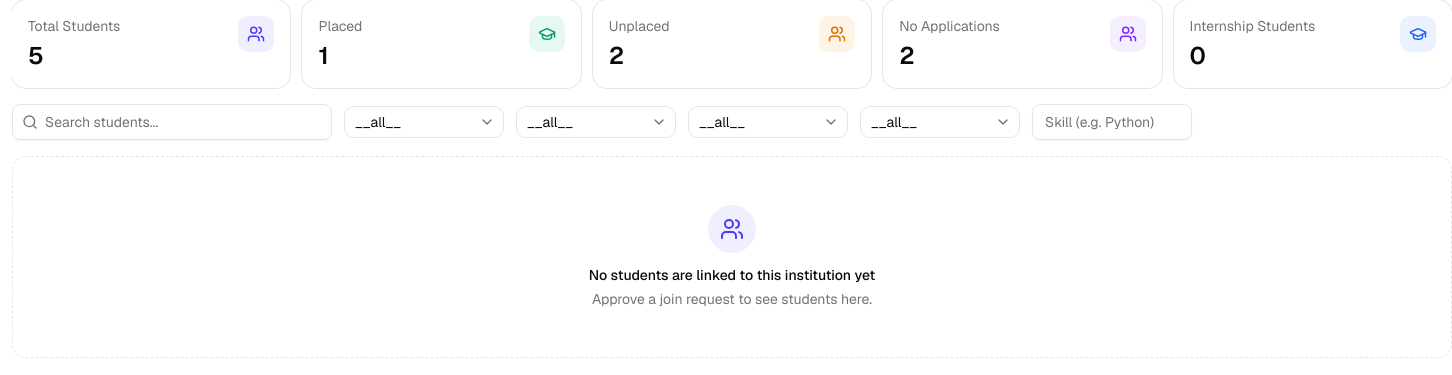
it: StudentDirectory › shows a no-results empty state distinct from the no-students-linked state
In the field labelled "Search students...": (172, 122) [12,104,332,140], type "nomatch"
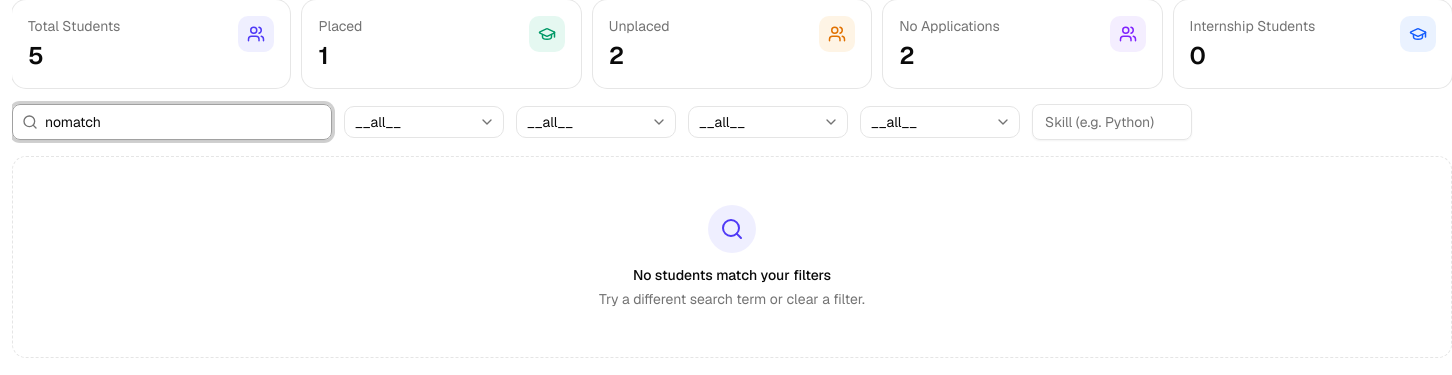
expect the text "No students match your filters" is shown: met, box [633,266,831,284]
